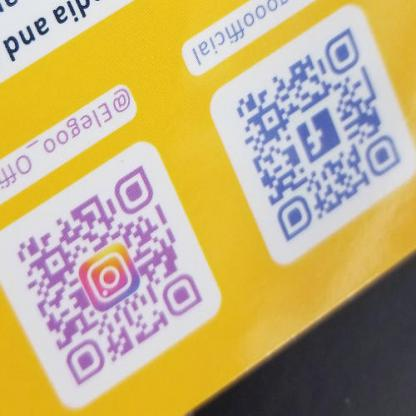qr: (5, 163, 208, 398), (230, 24, 407, 242)
